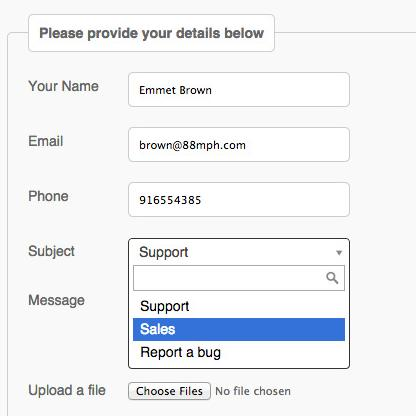button: (127, 379, 213, 403)
field: (127, 179, 351, 221), (123, 125, 353, 165), (126, 71, 354, 110), (131, 262, 346, 295)
